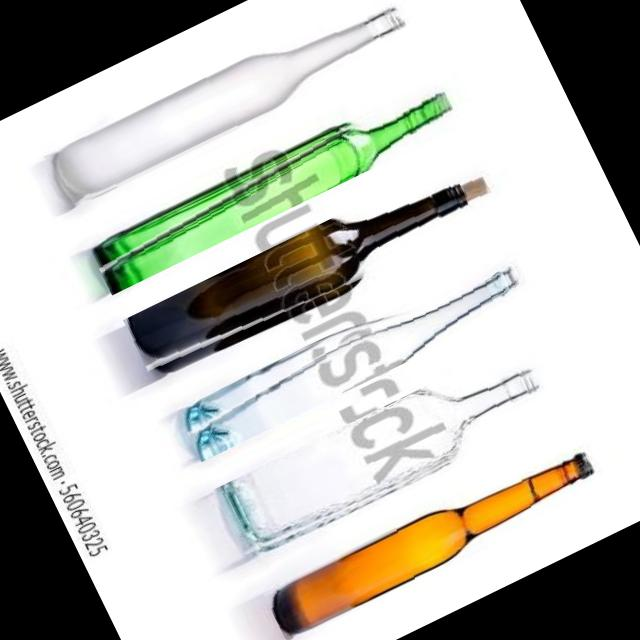Glass: (122, 150, 503, 387), (87, 75, 460, 295), (42, 0, 414, 212), (174, 246, 532, 462), (212, 340, 556, 564), (261, 437, 601, 640)
